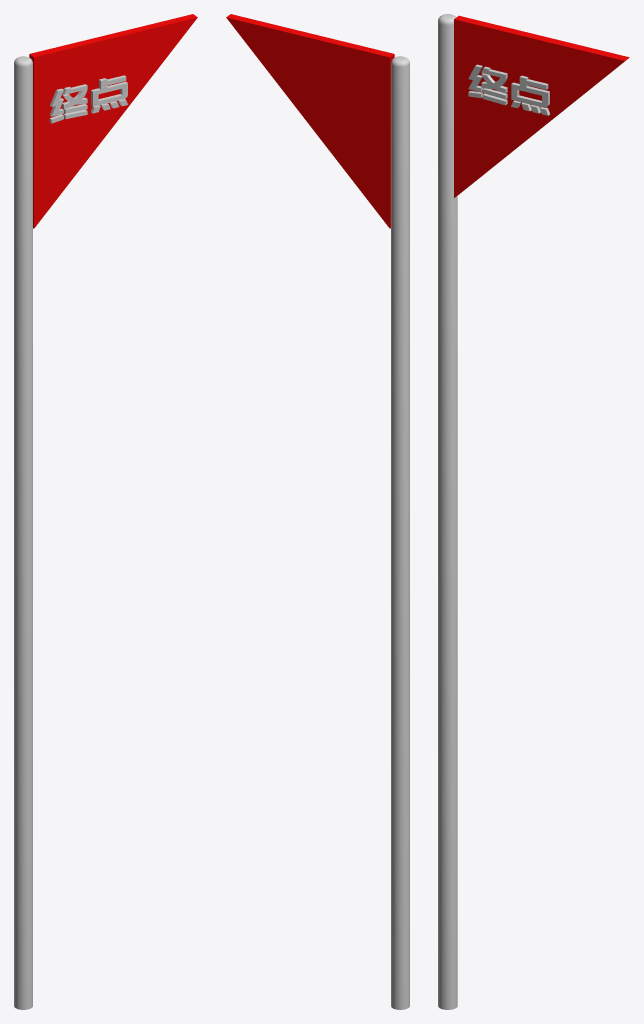
File: Flag.fbx
3 renders of one model, left to right at view 1: azimuth 30°, elevation 25°; view 2: azimuth 150°, elevation 25°; view 3: azimuth 330°, elevation 25°, orthographic. The views are drawn at different scales.
Visible parts, largest first — view 1: 柱体; view 2: 柱体; view 3: 柱体.
Boxes of the visible parts, x1,y1,x2,y2 form: 柱体: (14,14,197,1009); 柱体: (226,14,409,1009); 柱体: (438,14,629,1009).
Bounding box in the file's own units: 220 × 1106 × 20.
